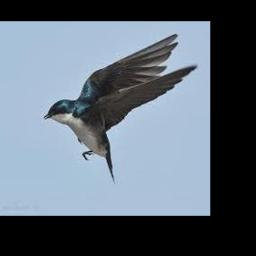Swallow: (45, 33, 197, 183)
